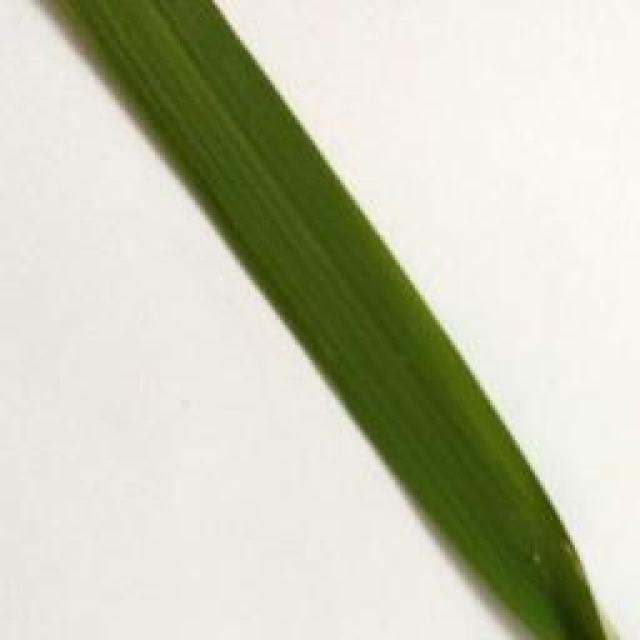Healthy-Plant: (52, 0, 325, 144), (140, 126, 410, 260), (220, 246, 483, 382), (393, 485, 615, 640), (314, 372, 556, 497)
